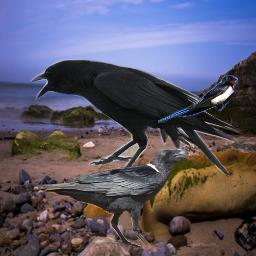Crow: (30, 59, 242, 177), (38, 146, 190, 249)
Swallow: (157, 75, 238, 123)
